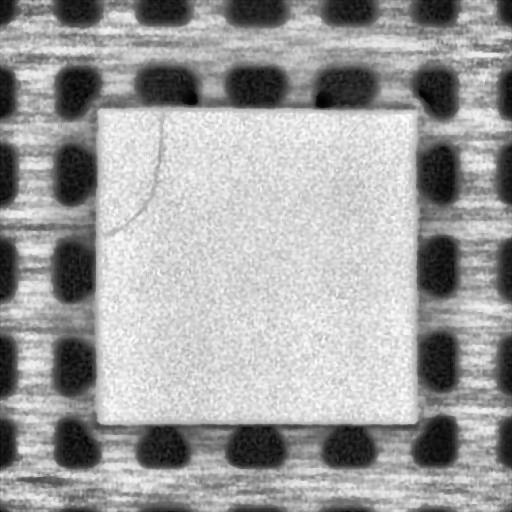DIE_CRACK: (106, 111, 166, 238)
